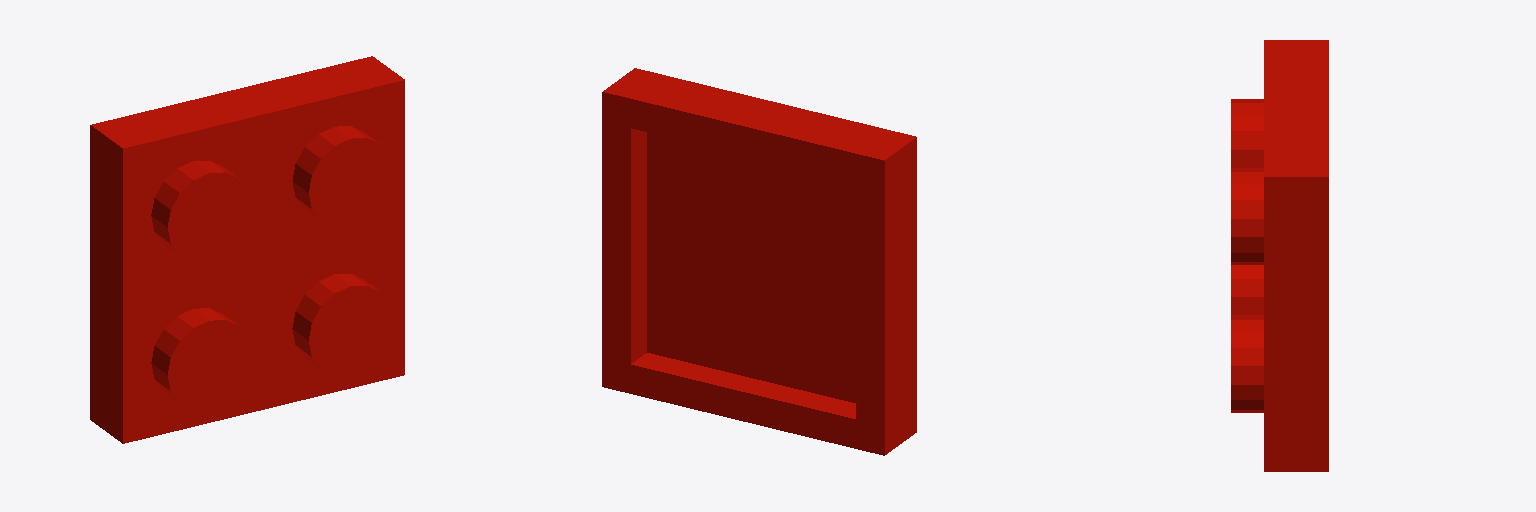
Rendered from ground.obj.
The picture shows the model from 3 angles: view 1: azimuth 30°, elevation 25°; view 2: azimuth 150°, elevation 25°; view 3: azimuth 270°, elevation 25°; orthographic projection.
Parts seen in each view (by area): view 1: Piece000; view 2: Piece000; view 3: Piece000.
Part boxes in pixels (bbox=[...]): Piece000: bbox=[90, 56, 404, 443]; Piece000: bbox=[602, 68, 916, 455]; Piece000: bbox=[1231, 40, 1328, 471].
Bounding box in the file's own units: 1.51 × 1.51 × 0.4535.